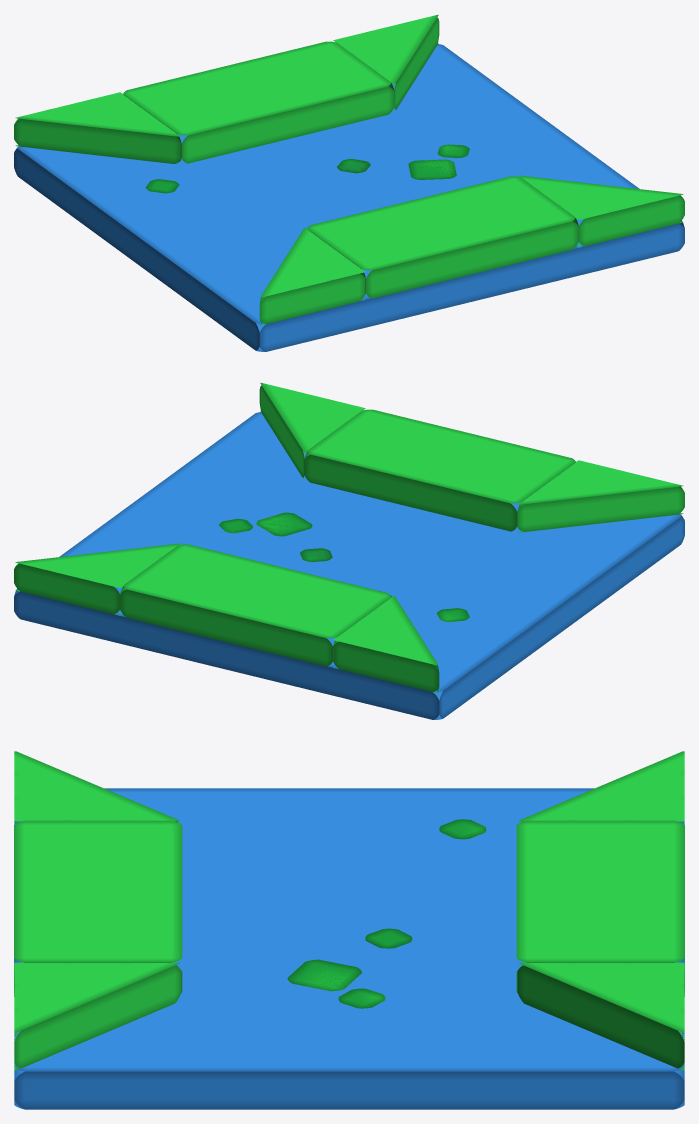
Rendered from water_i_1.obj.
The picture shows the model from 3 angles, top to bottom: view 1: azimuth 30°, elevation 25°; view 2: azimuth 150°, elevation 25°; view 3: azimuth 270°, elevation 25°; orthographic projection. The views are drawn at different scales.
Parts seen in each view (by area): view 1: cube, cylinder; view 2: cube, cylinder; view 3: cube, cylinder.
Boxes of the visible parts, x1,y1,x2,y2 form: cube: [14, 41, 684, 351]; cylinder: [14, 14, 684, 325]; cube: [14, 409, 684, 719]; cylinder: [14, 382, 684, 693]; cube: [14, 788, 684, 1109]; cylinder: [14, 751, 684, 1070].
Size of the model in its own units: 1 by 0.1256 by 1.
1 material, 1 textured.
